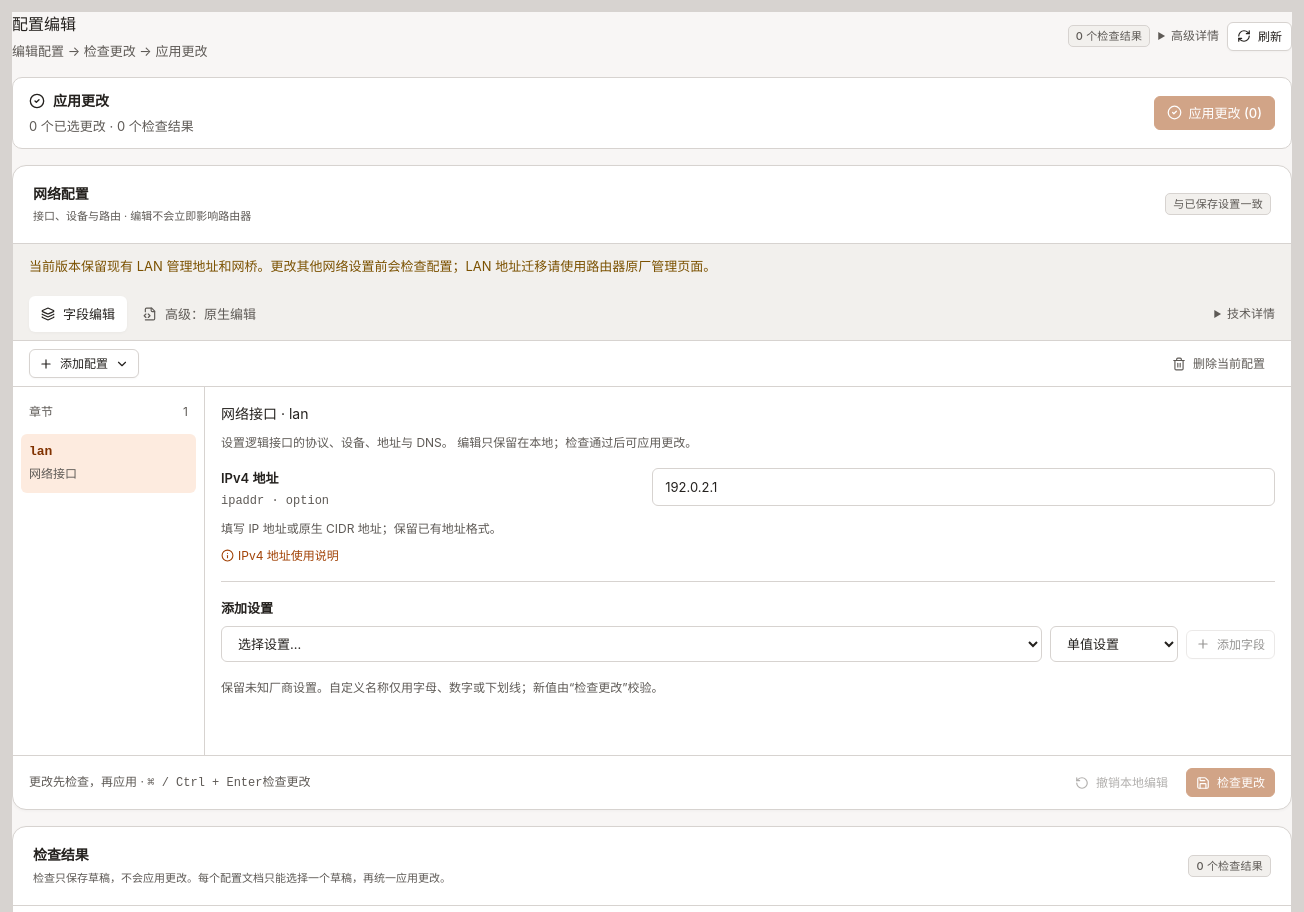
Test: FullControl configuration › defaults to editable fields and Ctrl+Enter stages their changed buffer without committing or changing saved generation
Type "192.0.2.2" into the field named "(ipaddr)".
click(964, 487); type("192.0.2.2")  # box x1=652 y1=468 x2=1275 y2=506
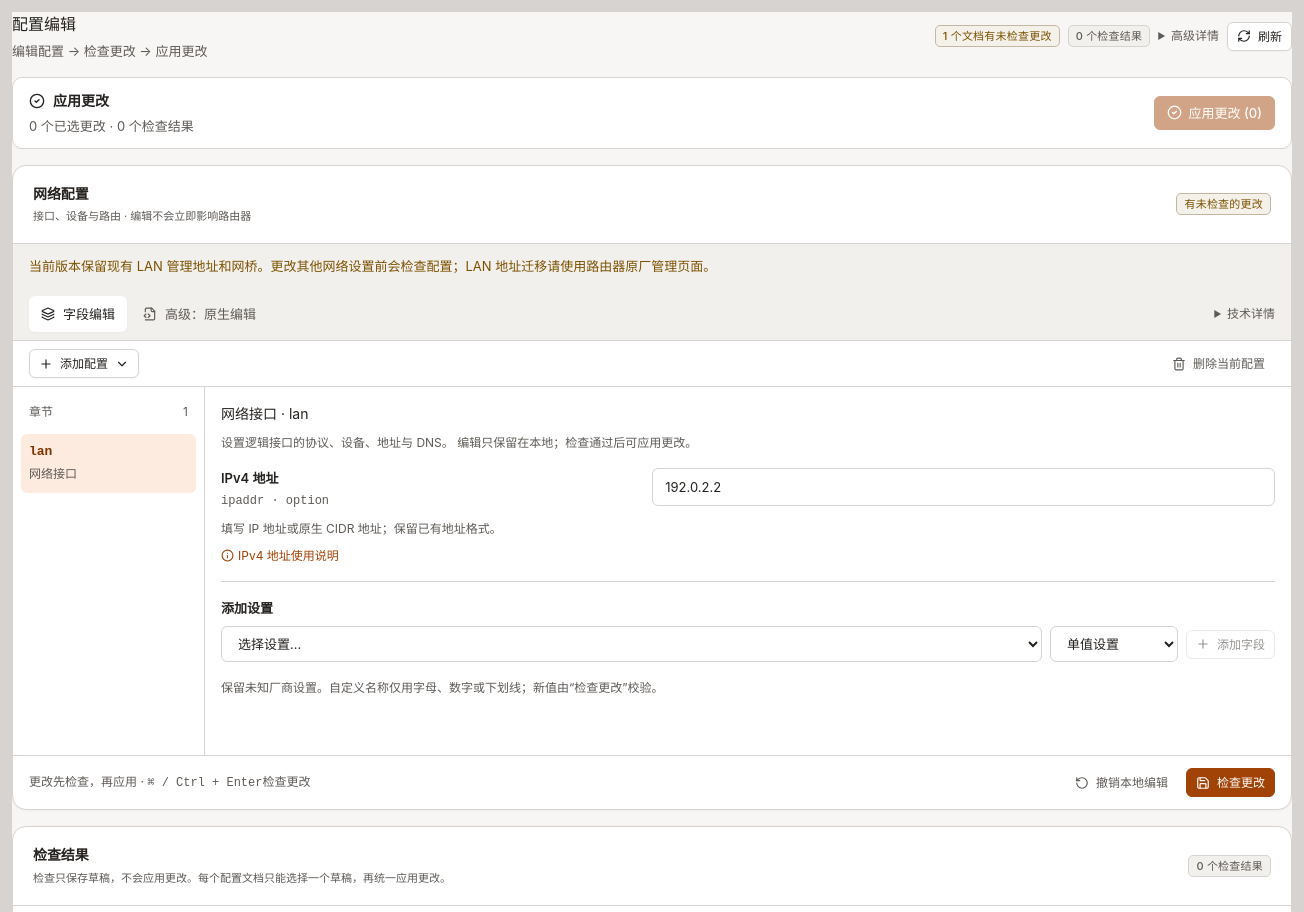
Expected: the text "有未检查的更改" is shown, x1=1176 y1=193 x2=1271 y2=215
Press Enter in the field named "(ipaddr)", box x1=652 y1=468 x2=1275 y2=506
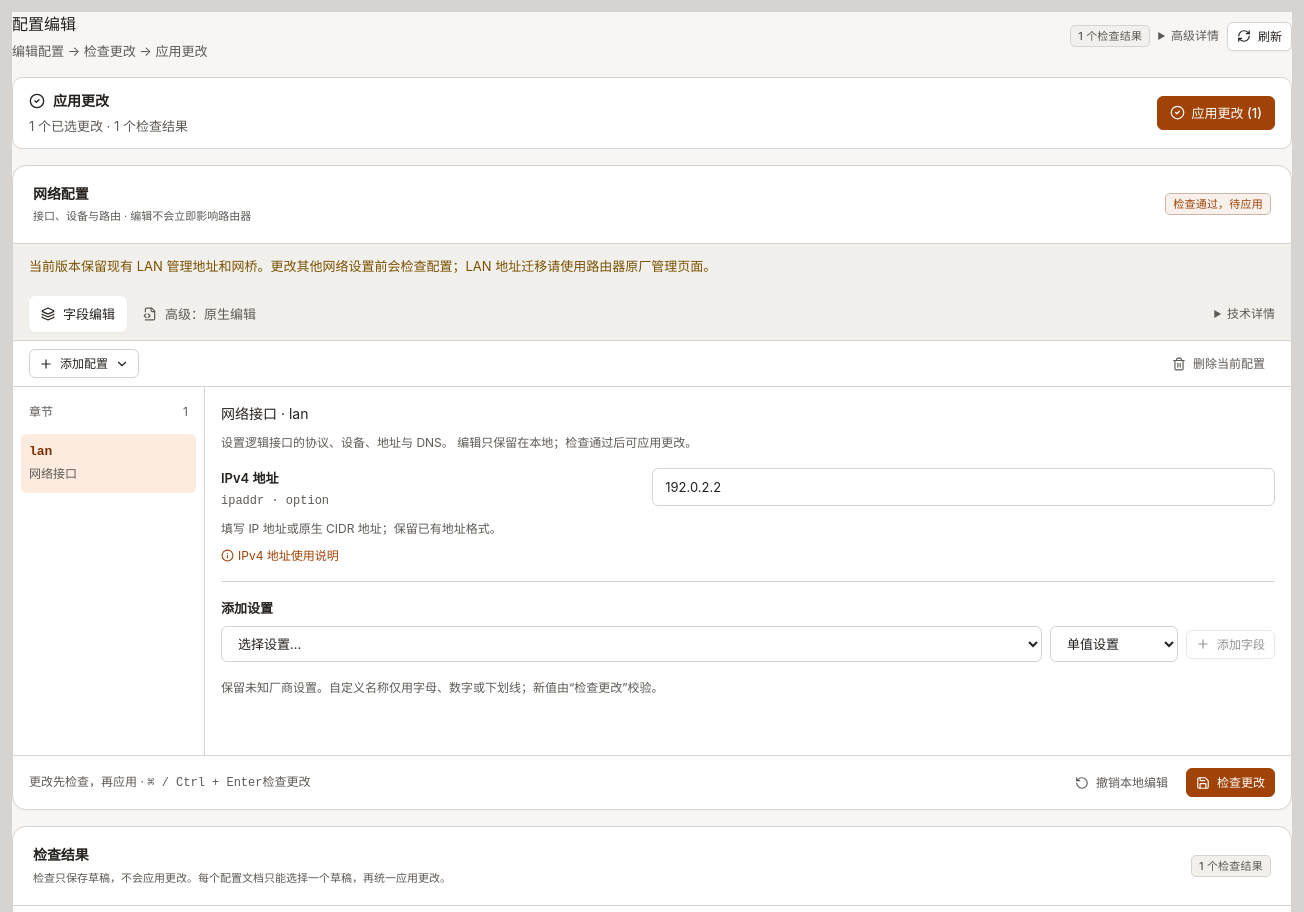
Expected: the text "检查通过，待应用" is shown, x1=1165 y1=193 x2=1271 y2=215
